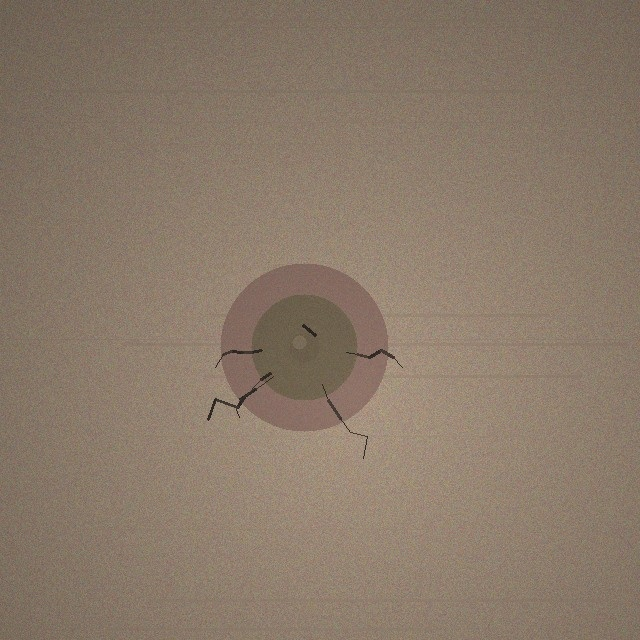crack: (220, 263, 388, 431)
